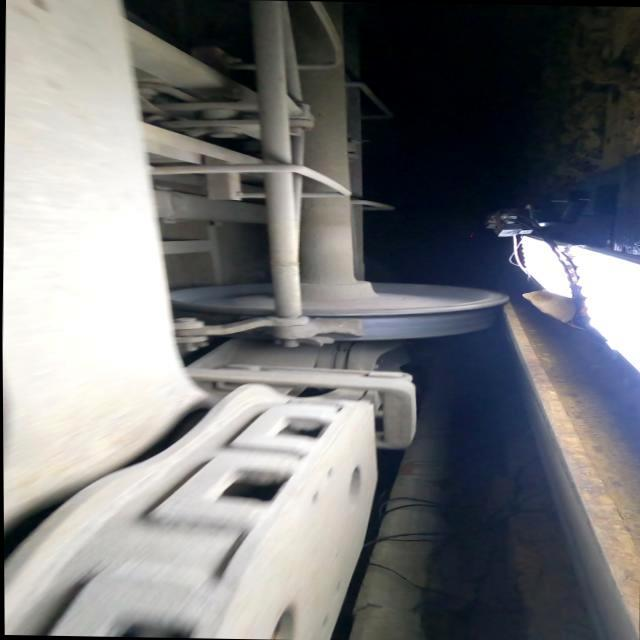Wheel: (304, 281, 509, 340)
